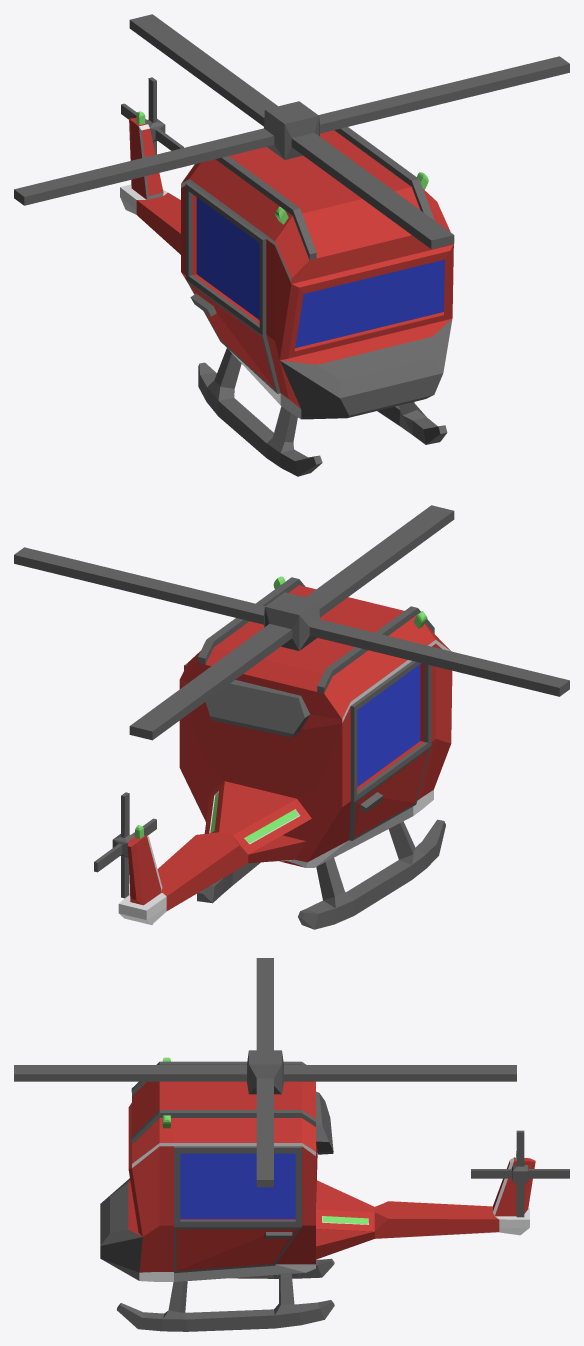
Rendered from HelicoV2.glb.
3 views of the same model, one above another, from view 1: azimuth 30°, elevation 25°; view 2: azimuth 150°, elevation 25°; view 3: azimuth 270°, elevation 25° (orthographic). The views are drawn at different scales.
Parts seen in each view (by area): view 1: HelicoV2, Helice.003, Patin, Helice.002; view 2: HelicoV2, Helice.003, Patin, Helice.002; view 3: HelicoV2, Helice.003, Patin, Helice.002.
Part boxes in pixels (x1,y1,x2,y2): HelicoV2: (120, 111, 453, 419); Helice.003: (14, 14, 569, 249); Patin: (198, 348, 447, 476); Helice.002: (121, 77, 183, 154); HelicoV2: (118, 576, 452, 924); Helice.003: (14, 505, 569, 740); Patin: (197, 819, 445, 929); Helice.002: (94, 792, 156, 898); HelicoV2: (100, 1057, 535, 1281); Helice.003: (14, 958, 516, 1187); Patin: (117, 1258, 334, 1331); Helice.002: (471, 1130, 569, 1217).
Bounding box in the file's own units: 5.75 × 2.95 × 6.08.
